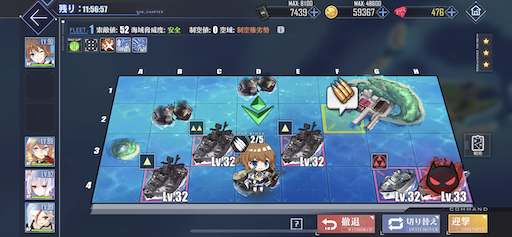boss: (422, 154, 469, 200)
lv1: (138, 152, 189, 198), (276, 120, 326, 165)
lv2: (190, 121, 235, 165)
lv3: (371, 153, 420, 199)
